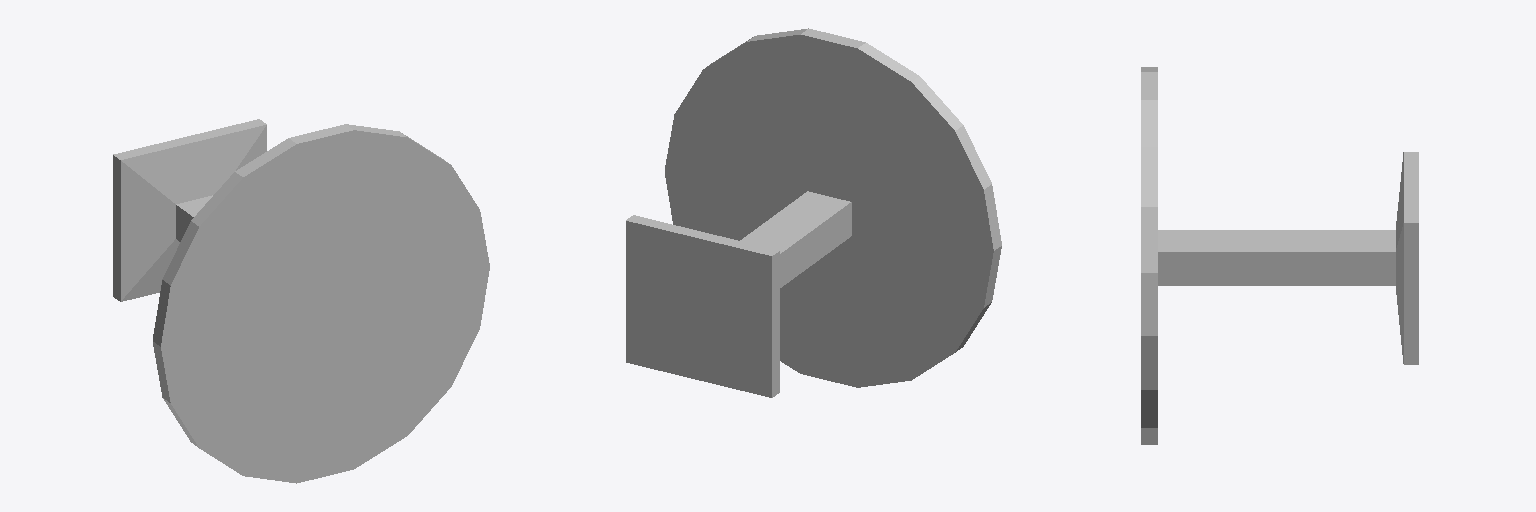
File: Table.obj
3 renders of one model, left to right at view 1: azimuth 30°, elevation 25°; view 2: azimuth 150°, elevation 25°; view 3: azimuth 270°, elevation 25°, orthographic.
Visible parts, largest first — view 1: Table; view 2: Table; view 3: Table.
Boxes of the visible parts, <box> form: Table: <box>113,119,489,483</box>; Table: <box>626,28,1001,397</box>; Table: <box>1141,67,1418,444</box>.
Bounding box in the file's own units: 45.86 × 45.16 × 33.51.